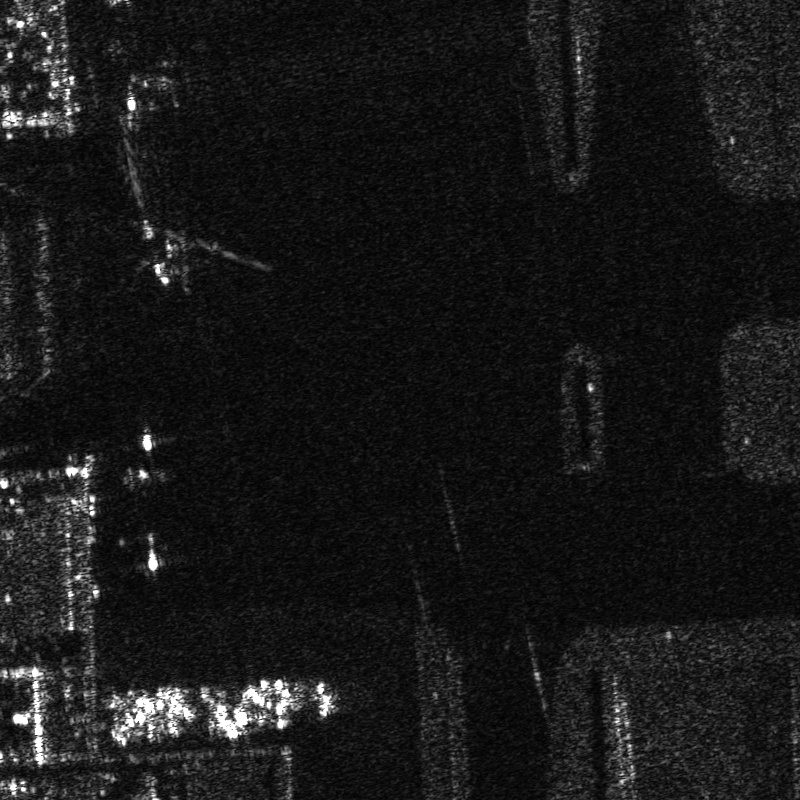A220: (146, 221, 241, 294), (124, 46, 198, 113)
